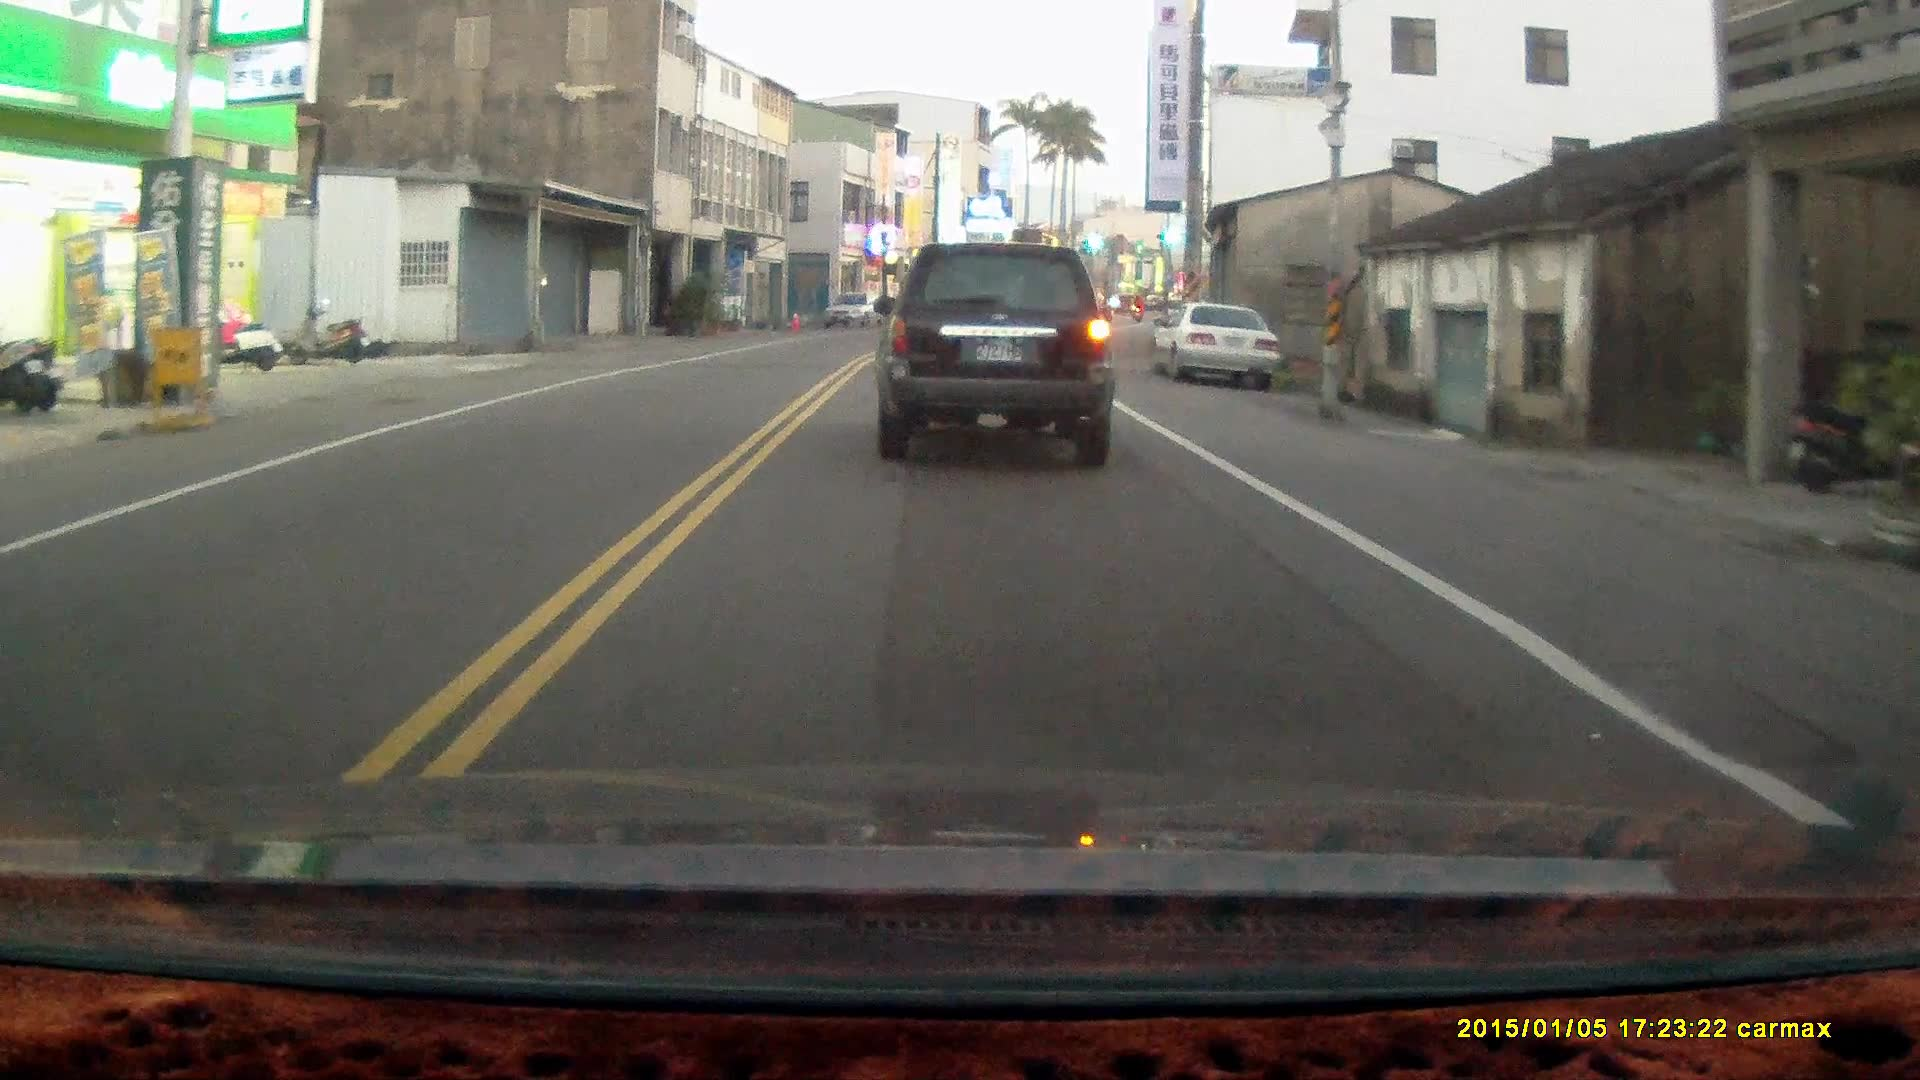vehicle: (876, 237, 1122, 467), (1156, 303, 1280, 389), (825, 295, 886, 339)
